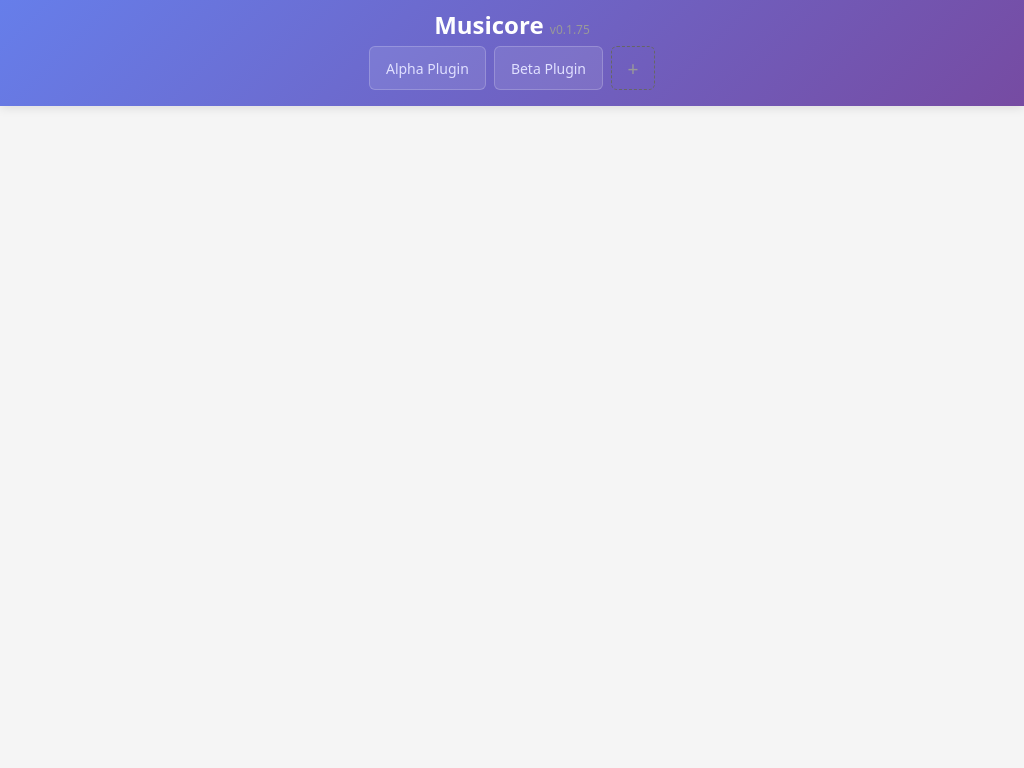
Scenario: App plugin navigation (US3) › renders the plugin view component when its nav entry is clicked
Step 1. Click the button with aria-label "Open Alpha Plugin plugin" → x=427, y=68, box x1=369 y1=46 x2=486 y2=90
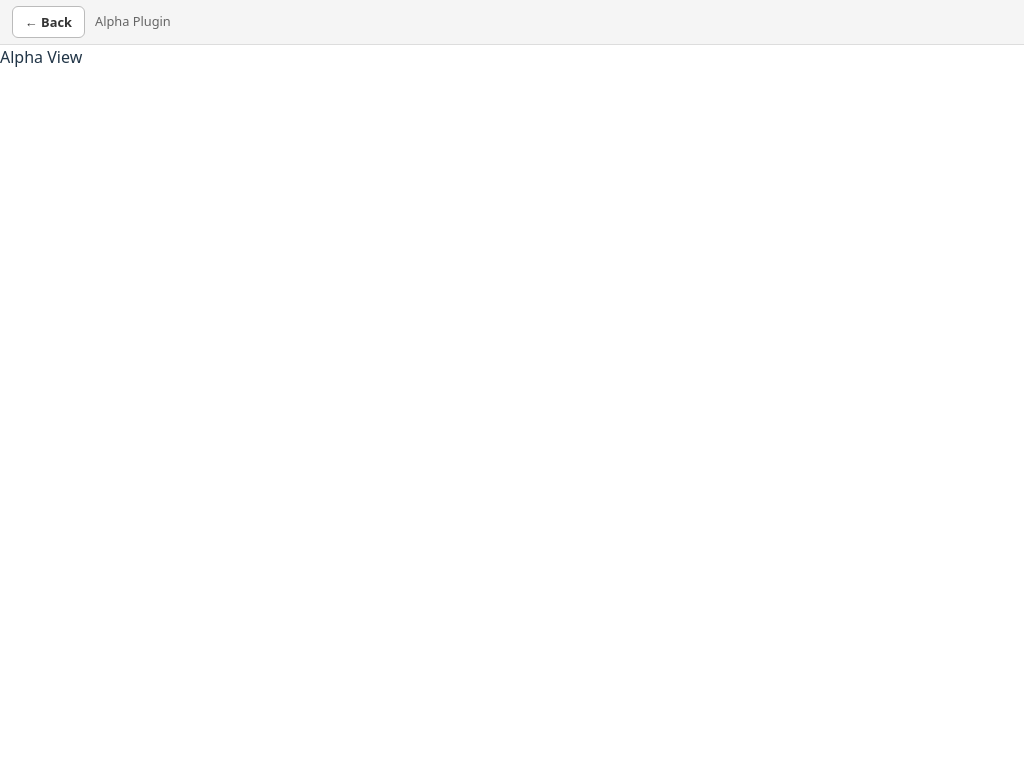
Check: the text "Alpha View" is shown, box x1=0 y1=46 x2=82 y2=68
